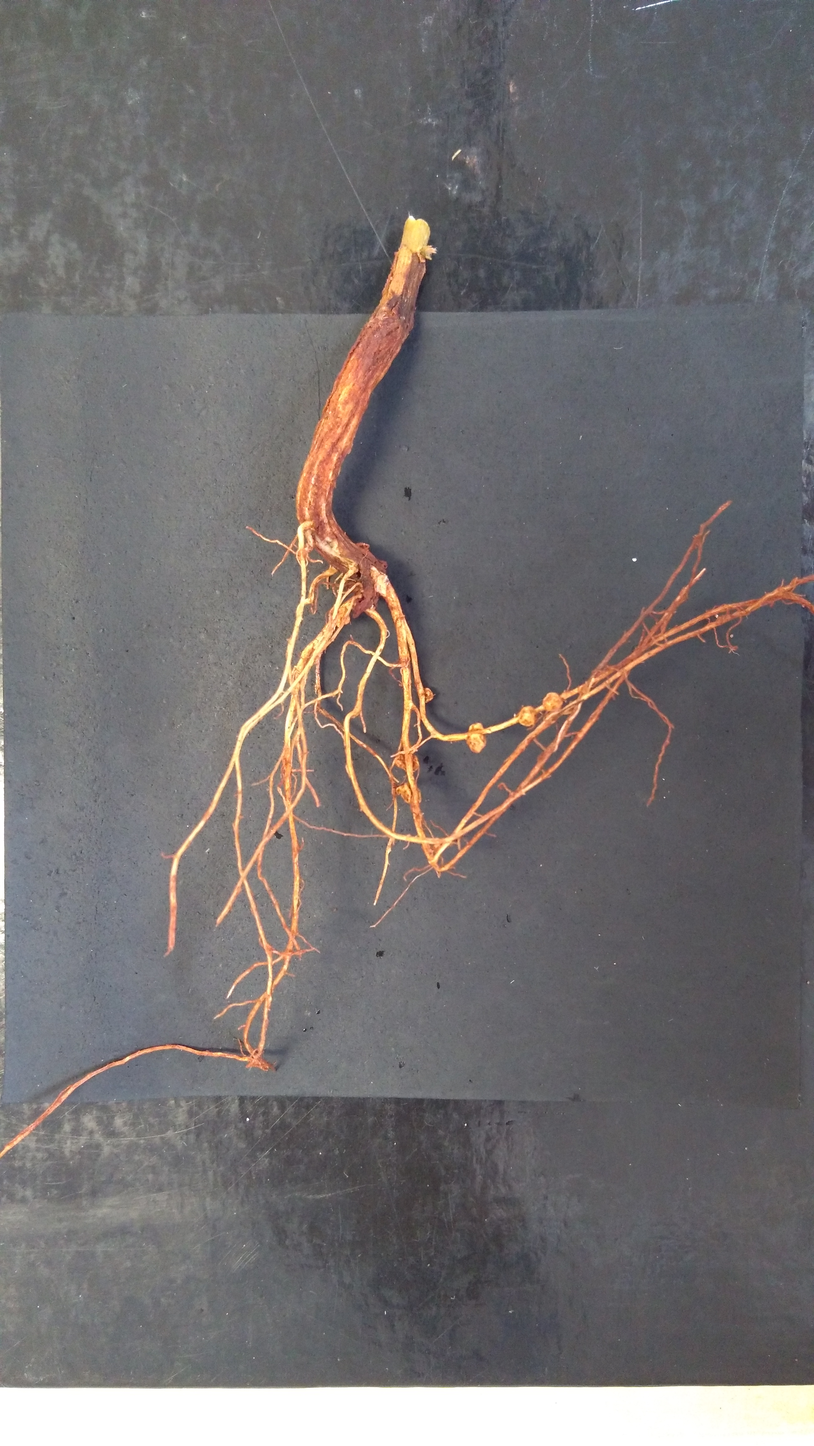nodule: (465, 721, 488, 755), (392, 750, 421, 775), (395, 782, 424, 805), (541, 690, 565, 714), (515, 704, 537, 728), (423, 687, 434, 705)
